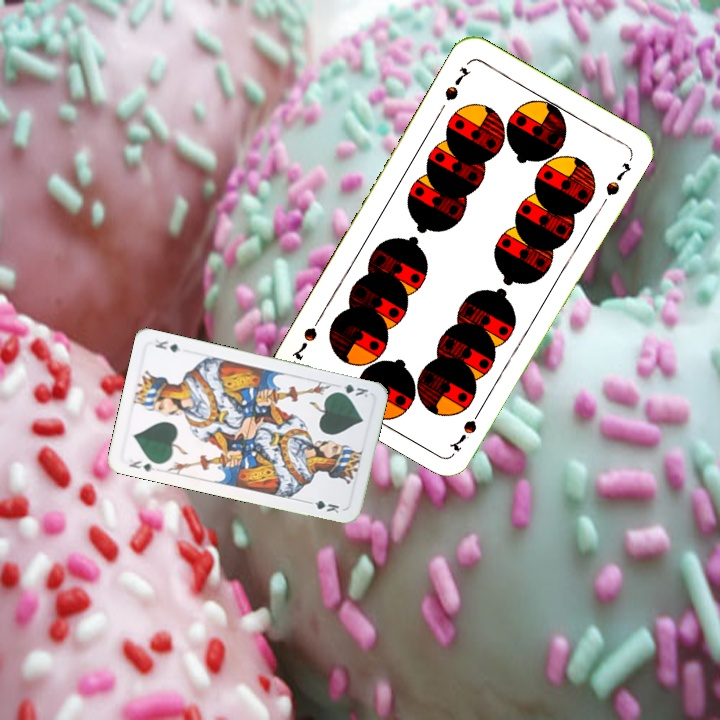GK: (331, 380, 371, 400), (125, 455, 157, 474)
S7: (445, 401, 486, 454), (440, 63, 474, 103)
